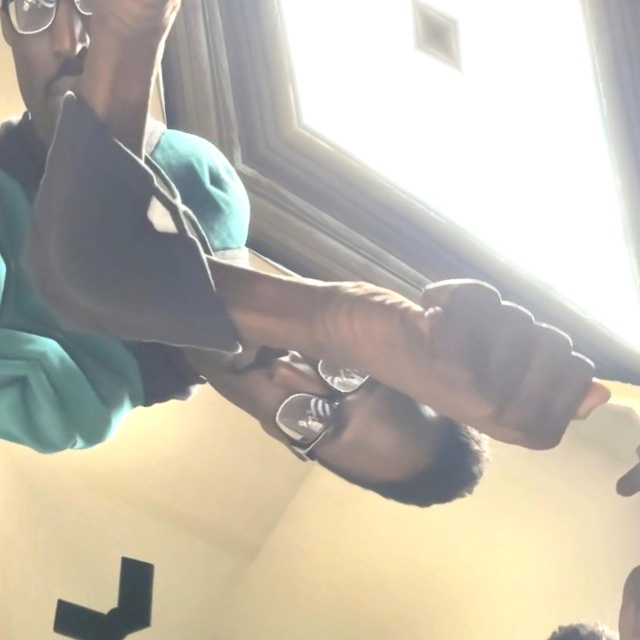Rock: (529, 0, 640, 382)
